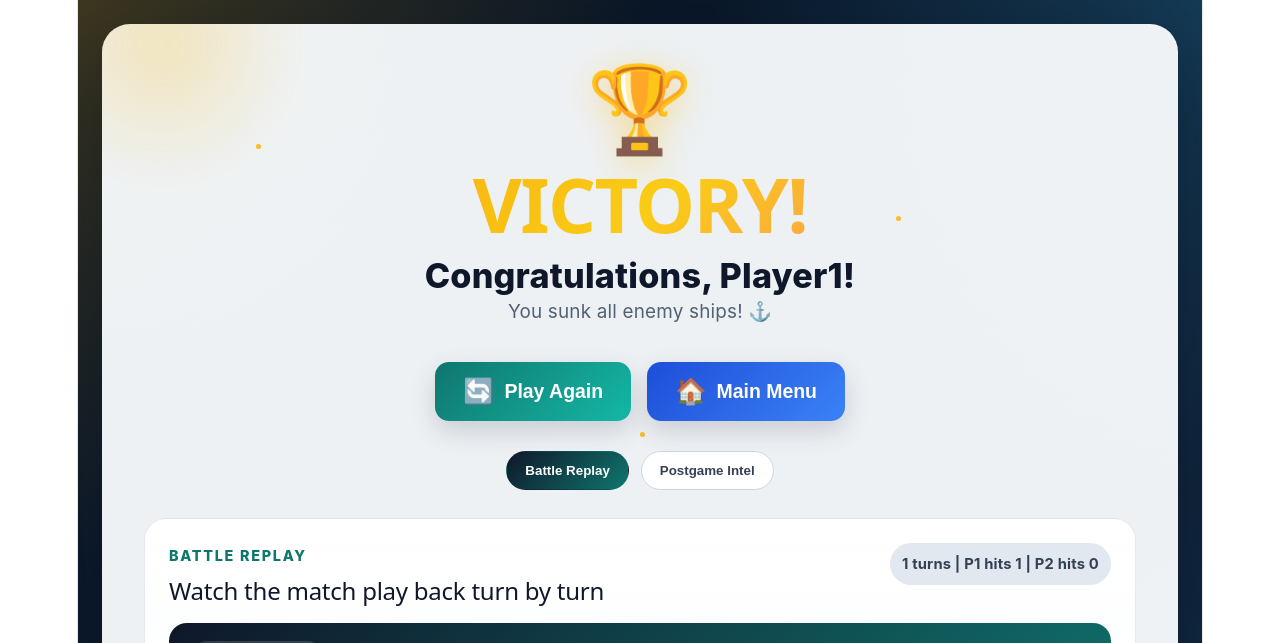
GameEnd Component › toggles analytics panel
This screenshot has width=1280, height=643.
Click the button "Postgame Intel": (707, 470) [641,450,774,490]
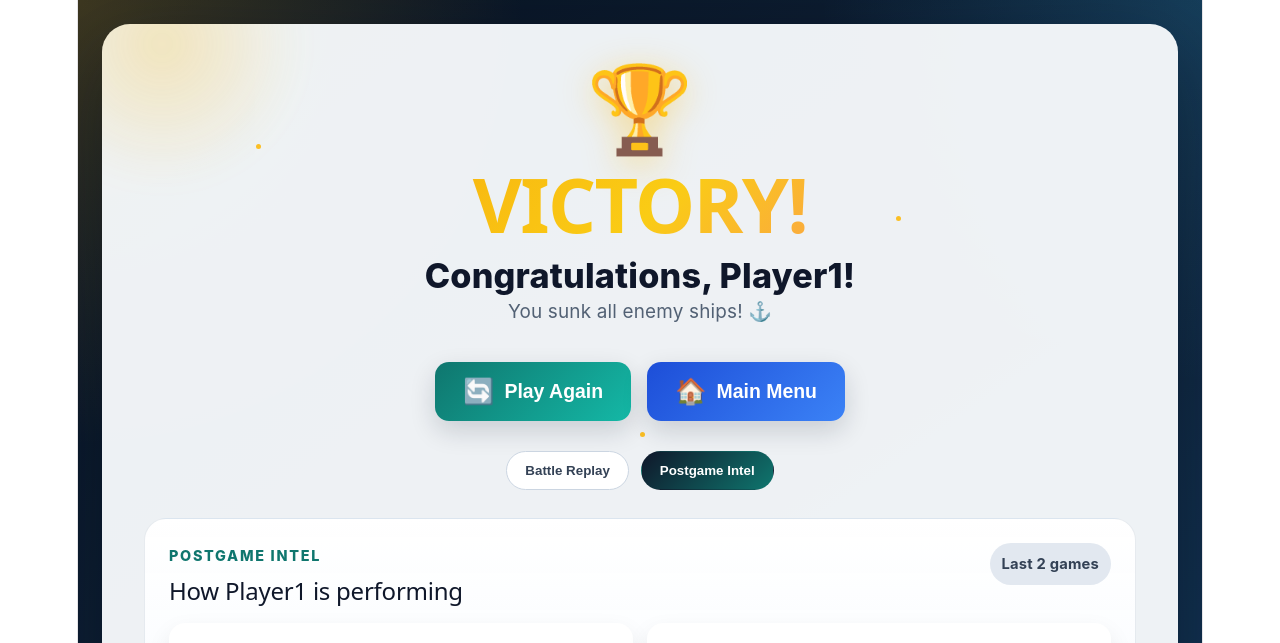
Result: the heading "How Player1 is performing" is shown at [169,577,463,605]
